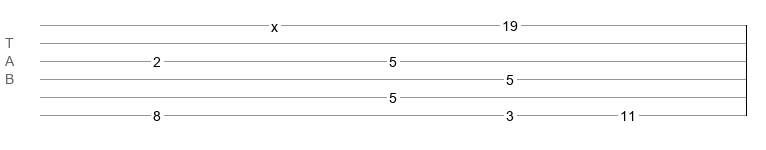11: (620, 108, 636, 118)
19: (502, 18, 518, 28)
2: (153, 54, 161, 64)
3: (506, 108, 514, 118)
5: (389, 54, 397, 64), (389, 90, 397, 100), (506, 72, 514, 82)
8: (153, 108, 161, 118)
x: (271, 19, 278, 27)
